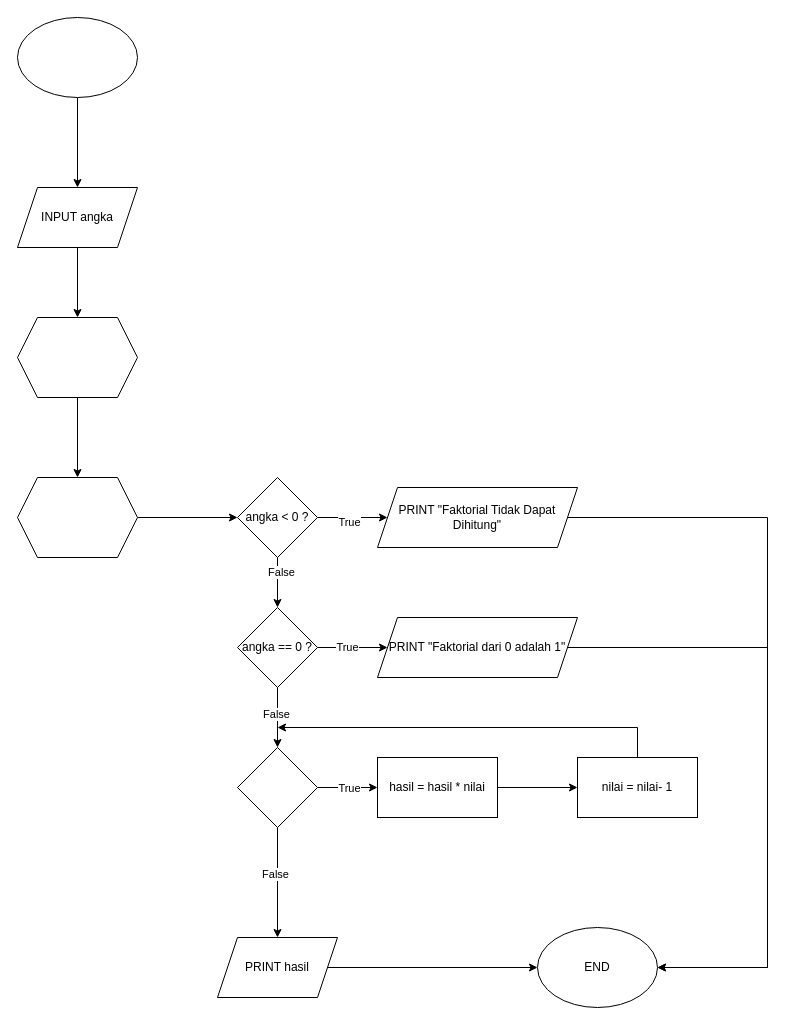
The diagram is 793 pixels wide and 1025 high, and some of its shapes have lost their labels. The shapes that lost their labels are listed below. From the top down, each one's box as (x1, y1, x2, y2) in pixels, then its label:
(16, 16, 138, 98): START
(16, 316, 138, 398): hasil = 1
(16, 476, 138, 558): nilai = angka
(236, 746, 318, 828): nilai > 0 ?
